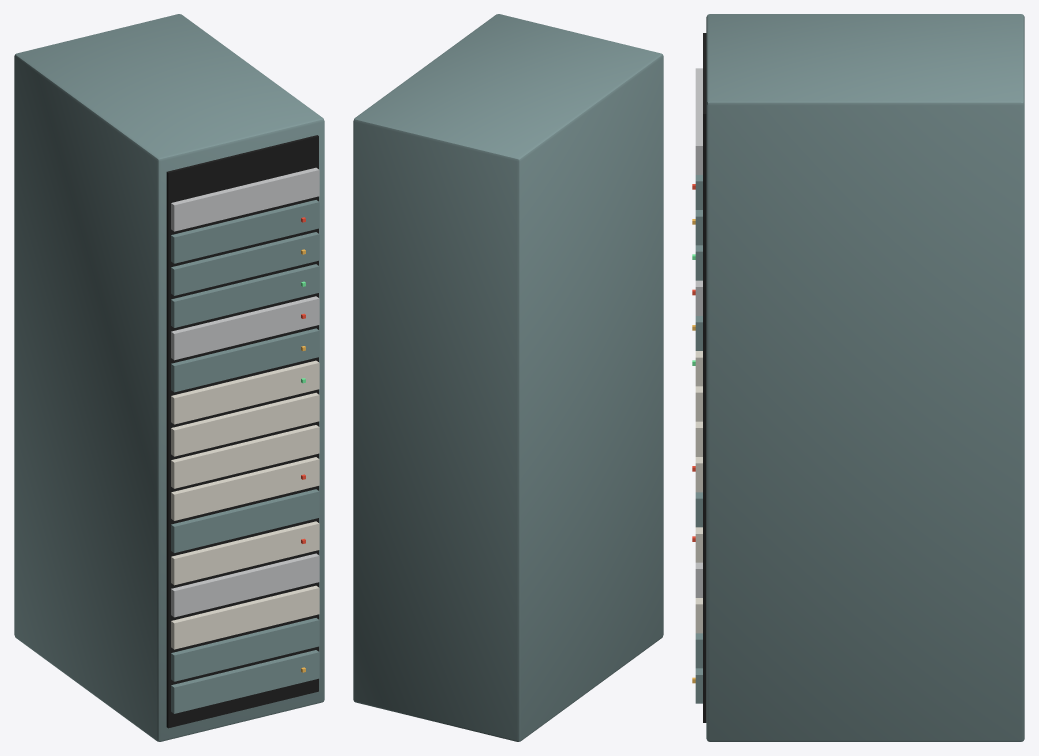
Rendered from server_rack.glb.
3 renders of one model, left to right at view 1: azimuth 30°, elevation 25°; view 2: azimuth 150°, elevation 25°; view 3: azimuth 270°, elevation 25°, orthographic. The views are drawn at different scales.
Visible parts, largest first — view 1: server_rack; view 2: server_rack; view 3: server_rack.
Part boxes in pixels (left/top/right/bottom): server_rack: left=14, top=14, right=324, bottom=741; server_rack: left=353, top=14, right=663, bottom=741; server_rack: left=692, top=14, right=1024, bottom=741.
Size of what is drawn, in the model's own units: 0.6 by 2 by 0.94.
